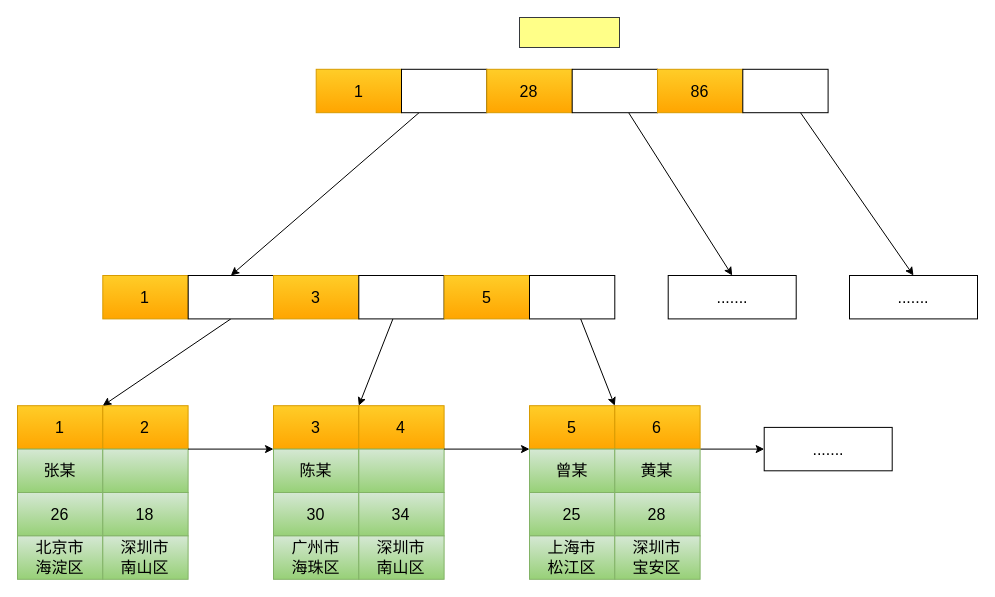
The diagram is 995 pixels wide and 597 high, and some of its shapes have lost their labels. The centre of each missing label's shape, as x and y in pixels:
"主键索引" goes at (x=569, y=32).
"周某" goes at (x=401, y=470).
"林某" goes at (x=145, y=470).
